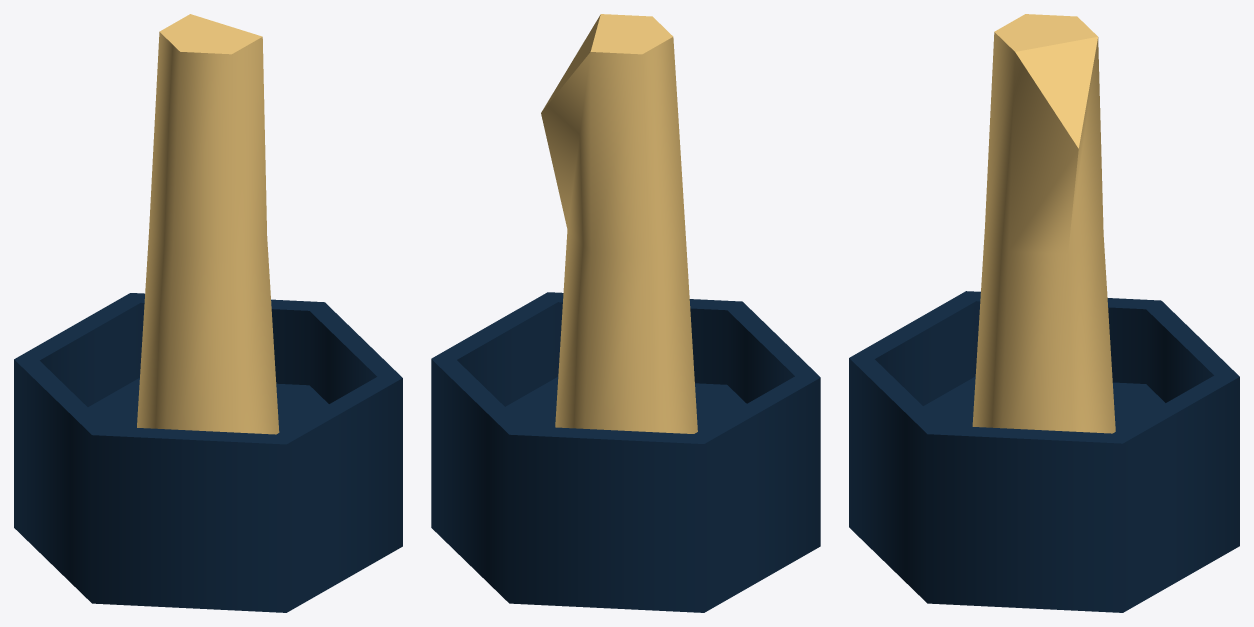
The model's file is SM_Candle_B.fbx.
The picture shows the model from 3 angles, left to right: view 1: azimuth 30°, elevation 25°; view 2: azimuth 150°, elevation 25°; view 3: azimuth 270°, elevation 25°; orthographic projection.
Visible parts, largest first — view 1: Candle_B; view 2: Candle_B; view 3: Candle_B.
Part boxes in pixels (box(x1,y1,x2,y2)): Candle_B: box(14, 14, 402, 612); Candle_B: box(431, 14, 820, 612); Candle_B: box(849, 14, 1239, 612).
Size of the model in its own units: 14.6 by 22.51 by 15.82.
